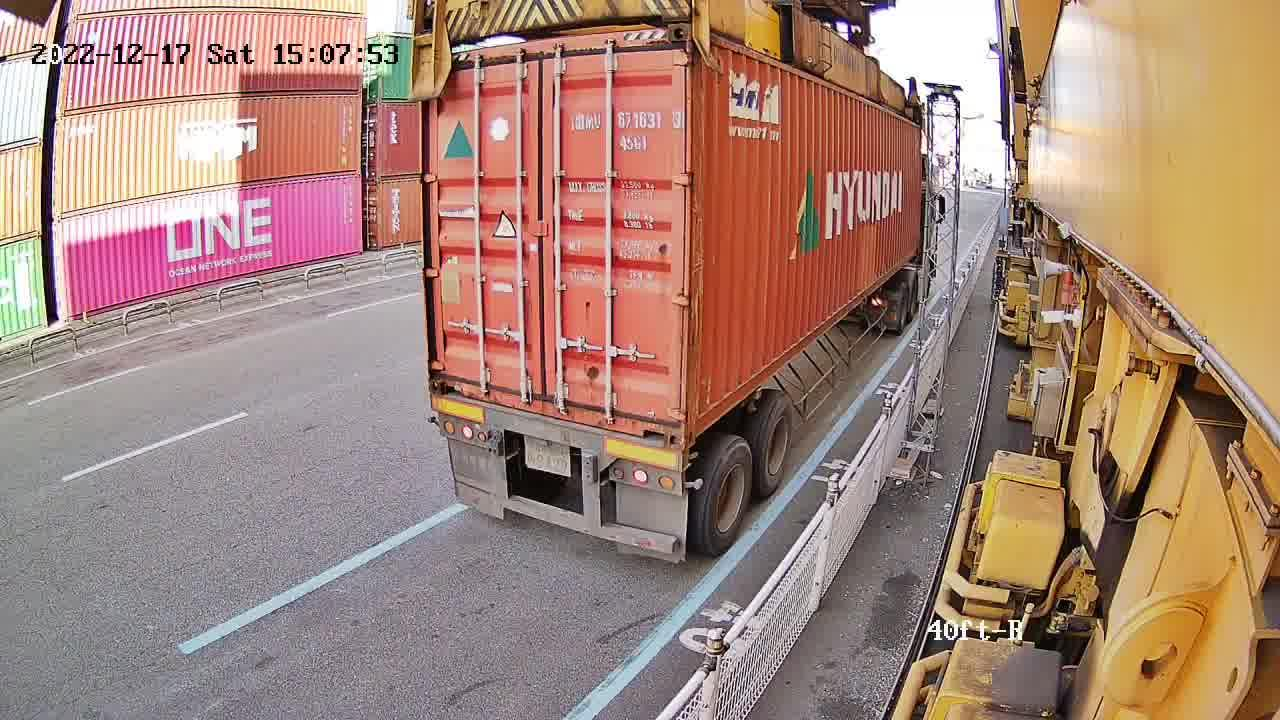Chassis: (429, 399, 683, 472)
Cone: (681, 443, 697, 471)
Hole_L: (683, 379, 714, 449), (428, 353, 469, 403)
Hole_R: (632, 395, 683, 449)
Tire: (701, 439, 753, 555), (756, 395, 795, 492)
